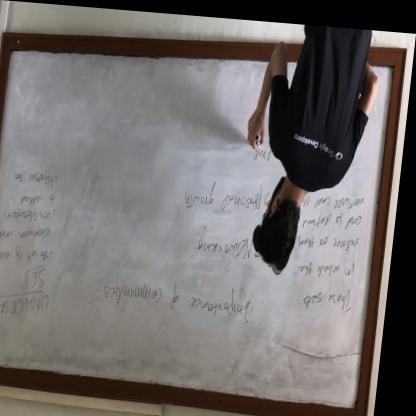Handwritten text: (107, 268, 261, 328), (186, 173, 273, 212), (198, 215, 262, 262), (304, 278, 361, 318), (0, 290, 61, 326), (301, 225, 369, 257), (300, 250, 365, 280), (303, 204, 368, 231), (301, 182, 374, 206), (13, 162, 65, 191), (0, 240, 57, 266), (7, 204, 62, 229), (0, 223, 58, 245), (19, 182, 64, 209), (22, 265, 54, 294), (255, 138, 279, 167)
Lecturer: (245, 38, 372, 282)
Whiteboard: (0, 24, 397, 407)
